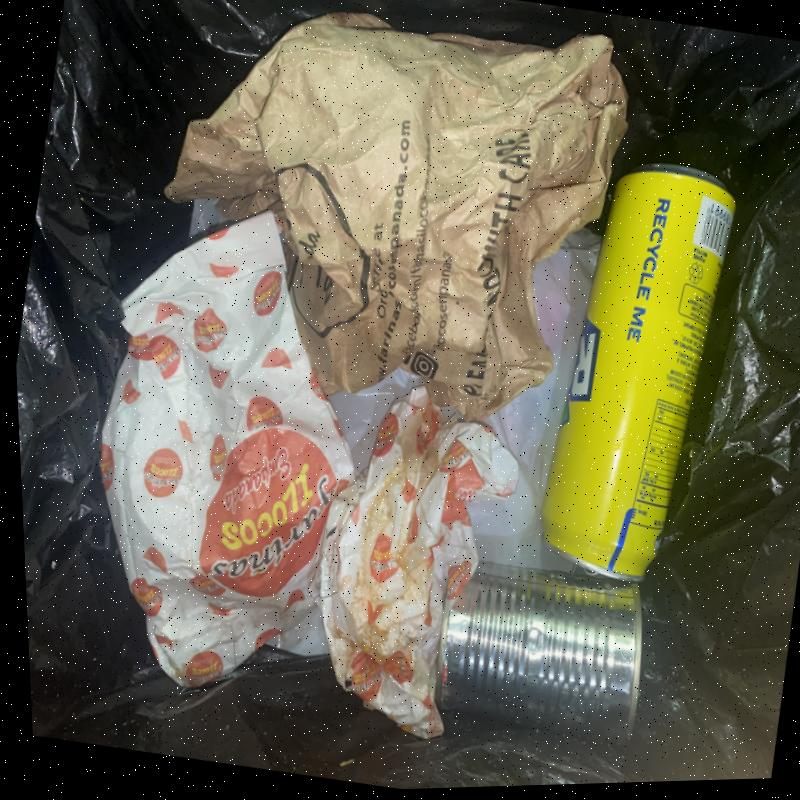aluminum: (542, 163, 737, 578), (436, 559, 644, 742)
paper: (166, 13, 630, 423), (100, 209, 357, 689), (320, 384, 520, 738)
